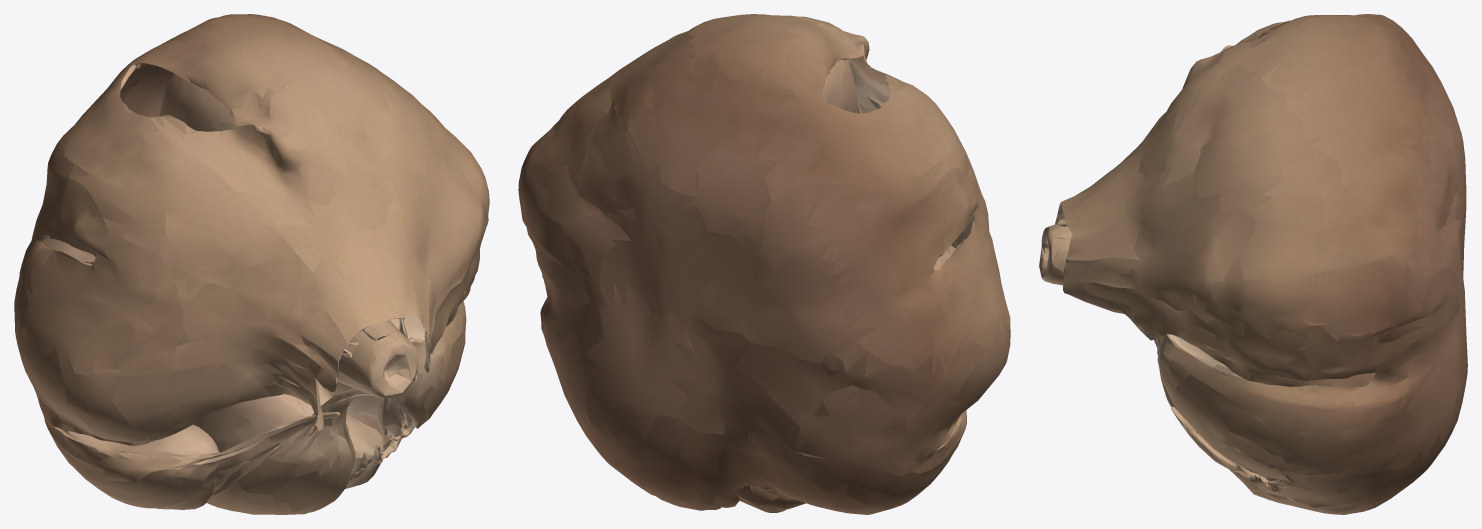
Rendered from sister-21.glb.
3 renders of one model, left to right at view 1: azimuth 30°, elevation 25°; view 2: azimuth 150°, elevation 25°; view 3: azimuth 270°, elevation 25°, orthographic. The views are drawn at different scales.
Visible parts, largest first — view 1: garlic bulb; view 2: garlic bulb; view 3: garlic bulb.
Part boxes in pixels (left/top/right/bottom): garlic bulb: left=14, top=14, right=489, bottom=514; garlic bulb: left=518, top=14, right=1010, bottom=514; garlic bulb: left=1039, top=14, right=1467, bottom=514.
Size of the model in its own units: 0.067 by 0.069 by 0.0593.
1 material, 1 textured.
